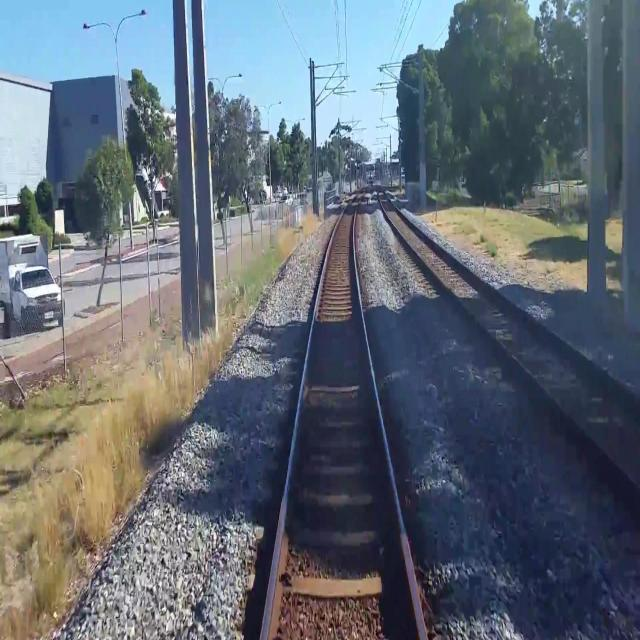rail-track: (377, 190, 640, 484), (265, 187, 425, 639)
